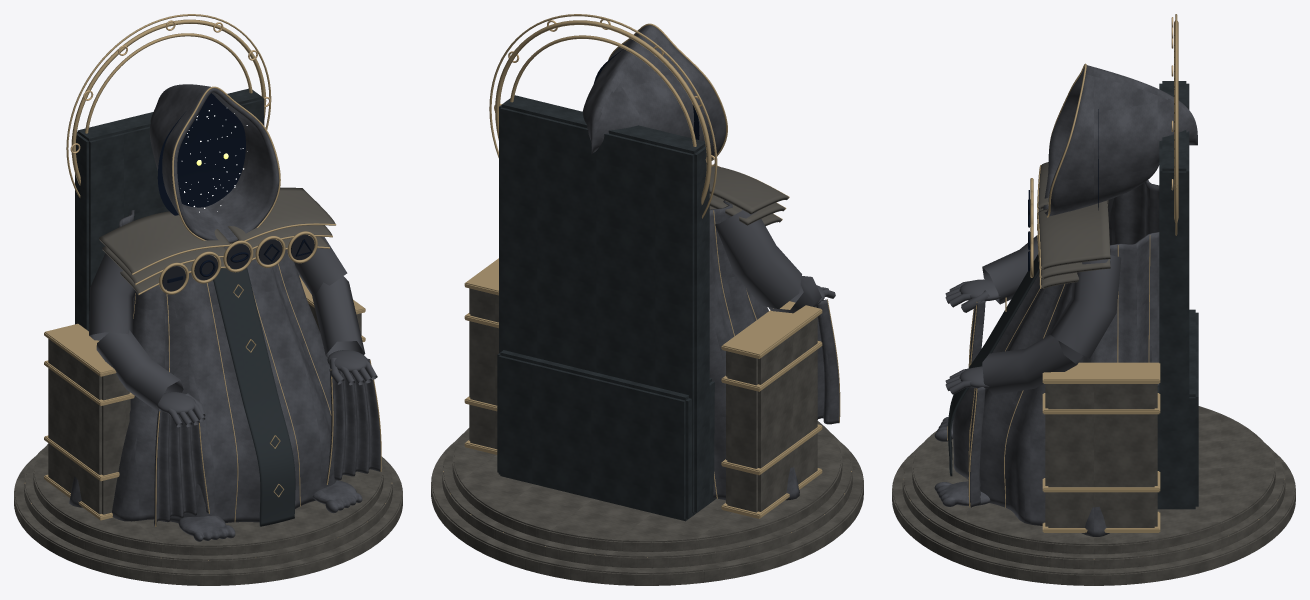
The model's file is guardian-v02.glb.
3 renders of one model, left to right at view 1: azimuth 30°, elevation 25°; view 2: azimuth 150°, elevation 25°; view 3: azimuth 270°, elevation 25°, orthographic. The views are drawn at different scales.
Visible parts, largest first — view 1: Chronicle violet basalt, Chronicle sandstone strata, Chronicle dark basalt, Chronicle aged bronze, Chronicle recessed star void; view 2: Chronicle dark basalt, Chronicle sandstone strata, Chronicle violet basalt, Chronicle aged bronze; view 3: Chronicle sandstone strata, Chronicle violet basalt, Chronicle dark basalt, Chronicle aged bronze.
Boxes of the visible parts, <box> form: Chronicle violet basalt: <box>69,84,380,541</box>; Chronicle sandstone strata: <box>14,187,402,585</box>; Chronicle dark basalt: <box>75,88,295,526</box>; Chronicle aged bronze: <box>24,14,392,560</box>; Chronicle recessed star void: <box>157,93,245,215</box>; Chronicle dark basalt: <box>497,95,715,521</box>; Chronicle sandstone strata: <box>431,166,863,585</box>; Chronicle violet basalt: <box>582,25,839,500</box>; Chronicle aged bronze: <box>443,14,851,557</box>; Chronicle sandstone strata: <box>892,162,1295,585</box>; Chronicle violet basalt: <box>934,65,1197,536</box>; Chronicle dark basalt: <box>948,81,1198,509</box>; Chronicle aged bronze: <box>903,14,1284,559</box>.
Size of the model in its own units: 10.8 by 14.03 by 10.8.
14 materials, 3 textured.
